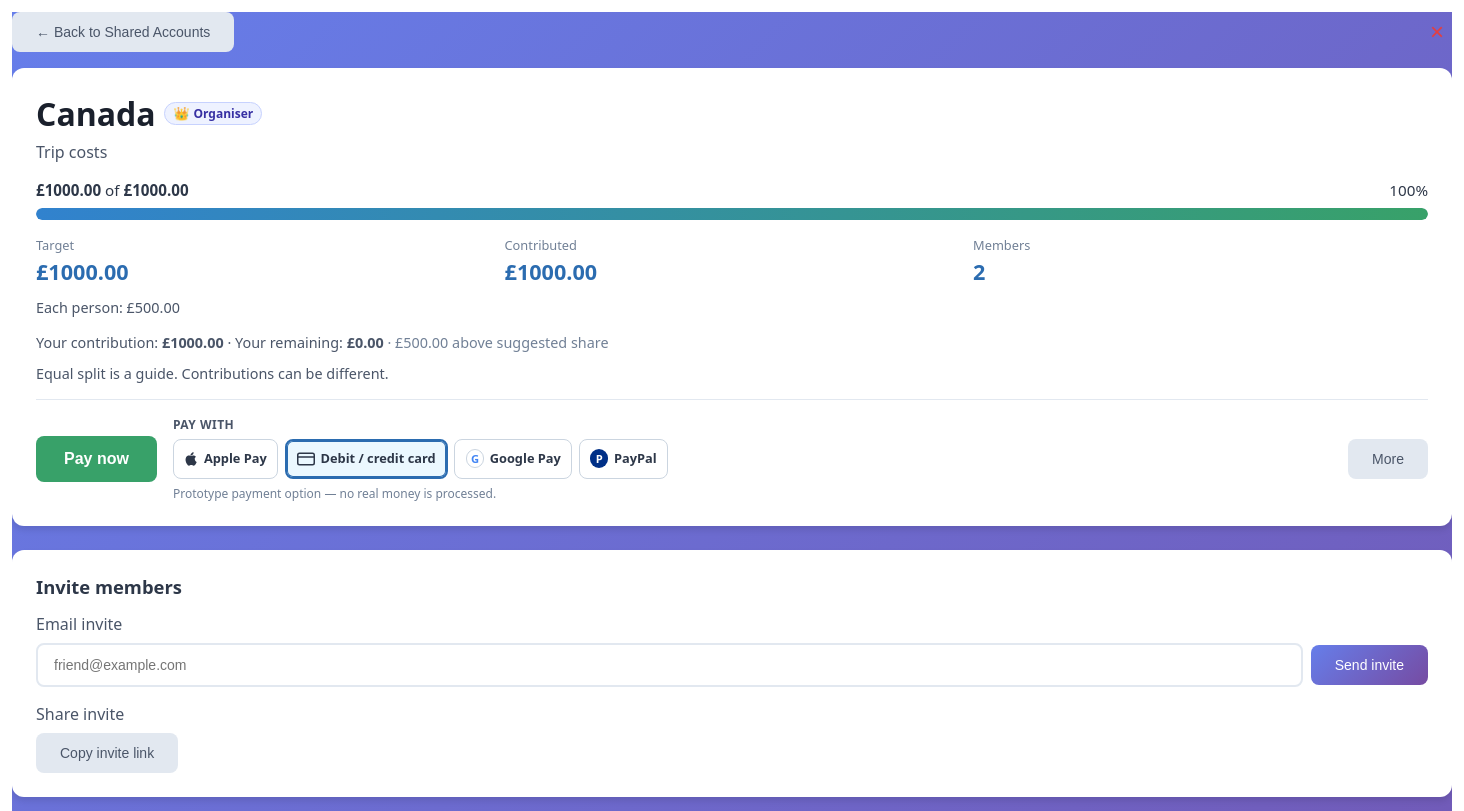
Scenario: SharedAccountDetail close-out flow › promotes Pay now when the target is reached, not Close Trip Money
The image size is (1464, 811).
Expected: the button "Pay now" is shown, [36, 436, 157, 482]
Expected: the button "pay account" is not shown
What coordinates should you click on to do the following:
click the button "More"
I would click on:
 (1388, 459)
Its box is [1348, 439, 1428, 479].
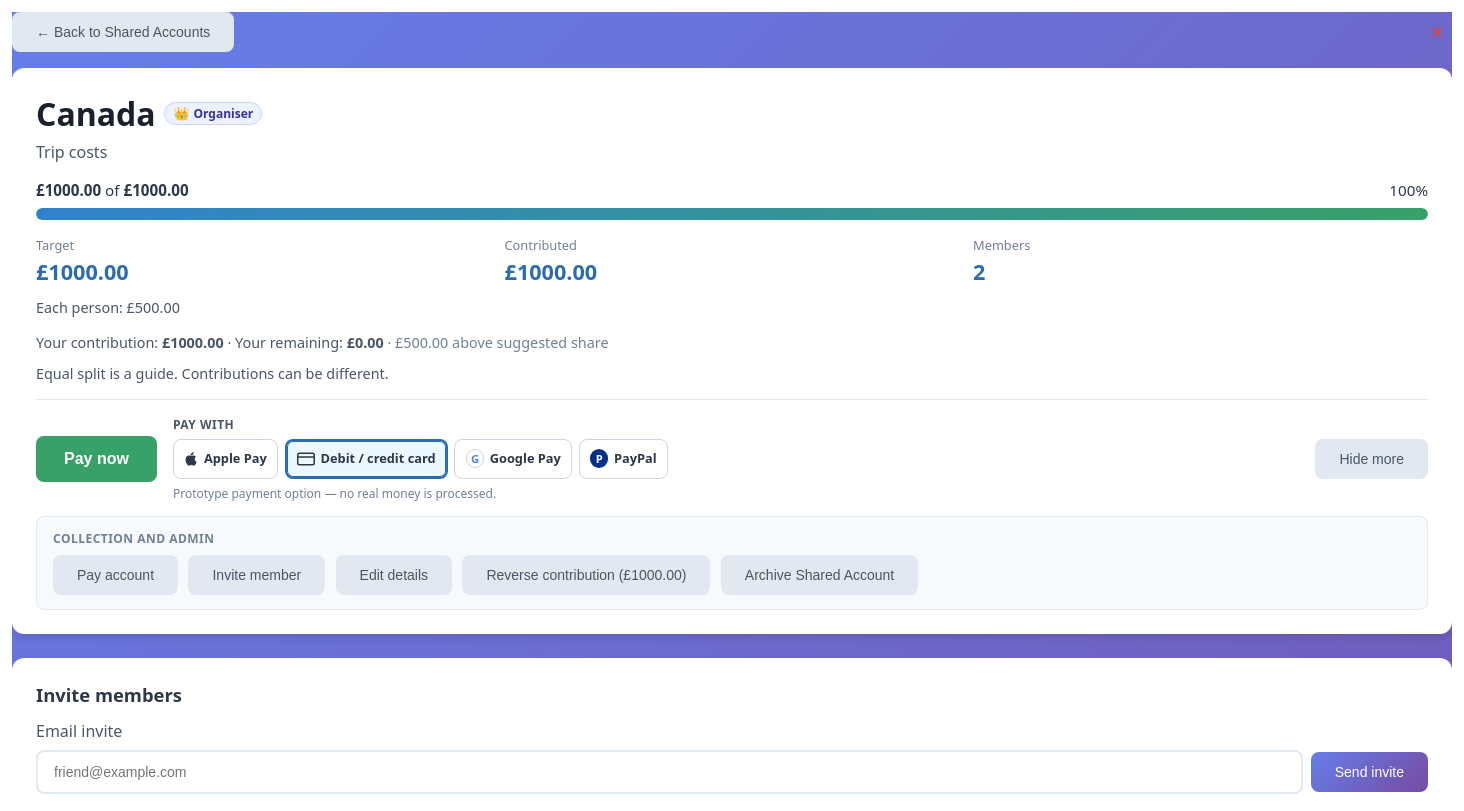
Now the button "Pay account" is shown, box [53, 555, 178, 595]
Now the button "Invite member" is shown, box [188, 555, 325, 595]
Now the button "Archive Shared Account" is shown, box [721, 555, 918, 595]
